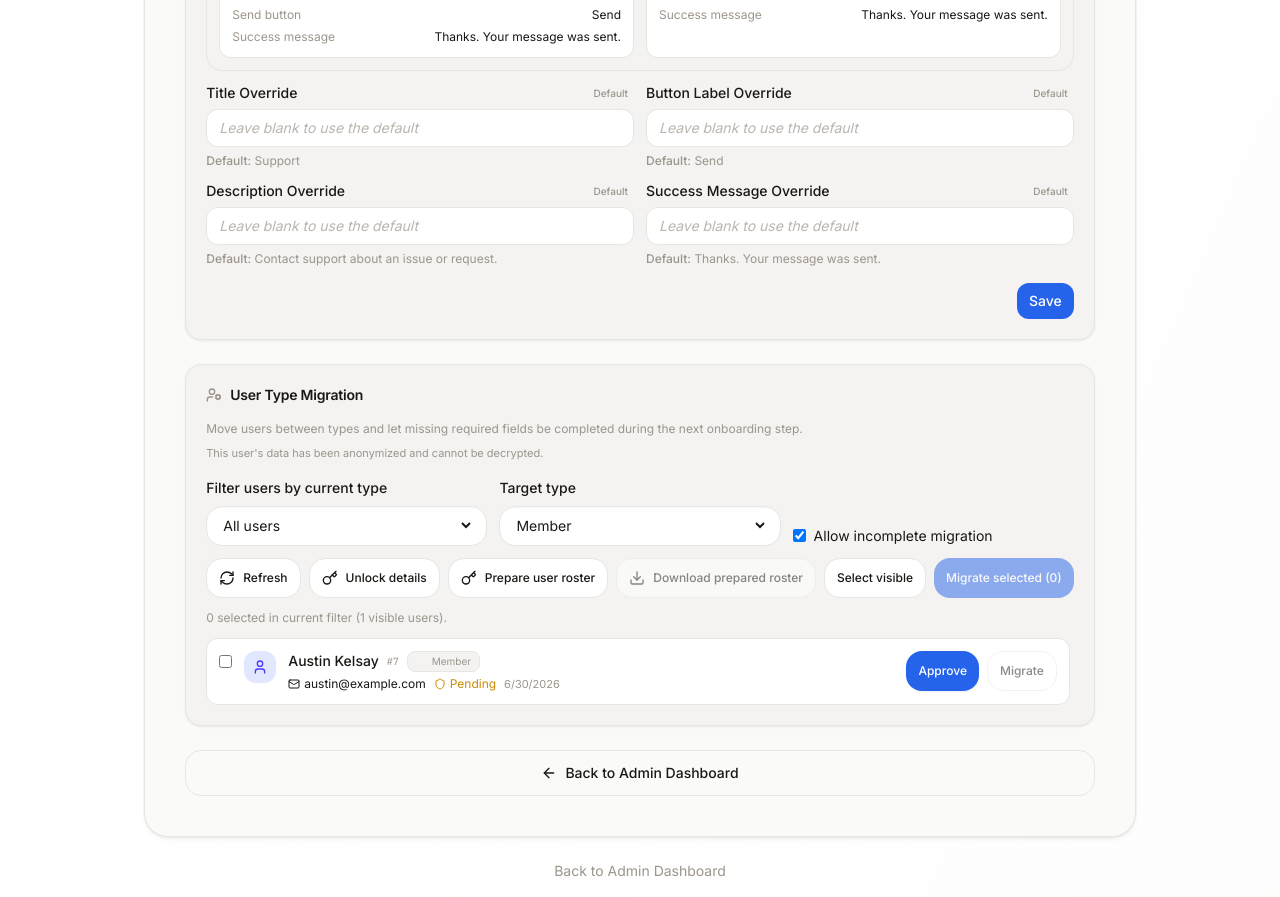
Test case: AdminUserConfig › downloads a User Roster Export and records copied export metadata
This screenshot has width=1280, height=897.
(page scrolled)
Expected: the button "Download prepared roster" is disabled, [616, 558, 816, 598]
Click the button "Prepare user roster": (528, 578) [448, 558, 608, 598]
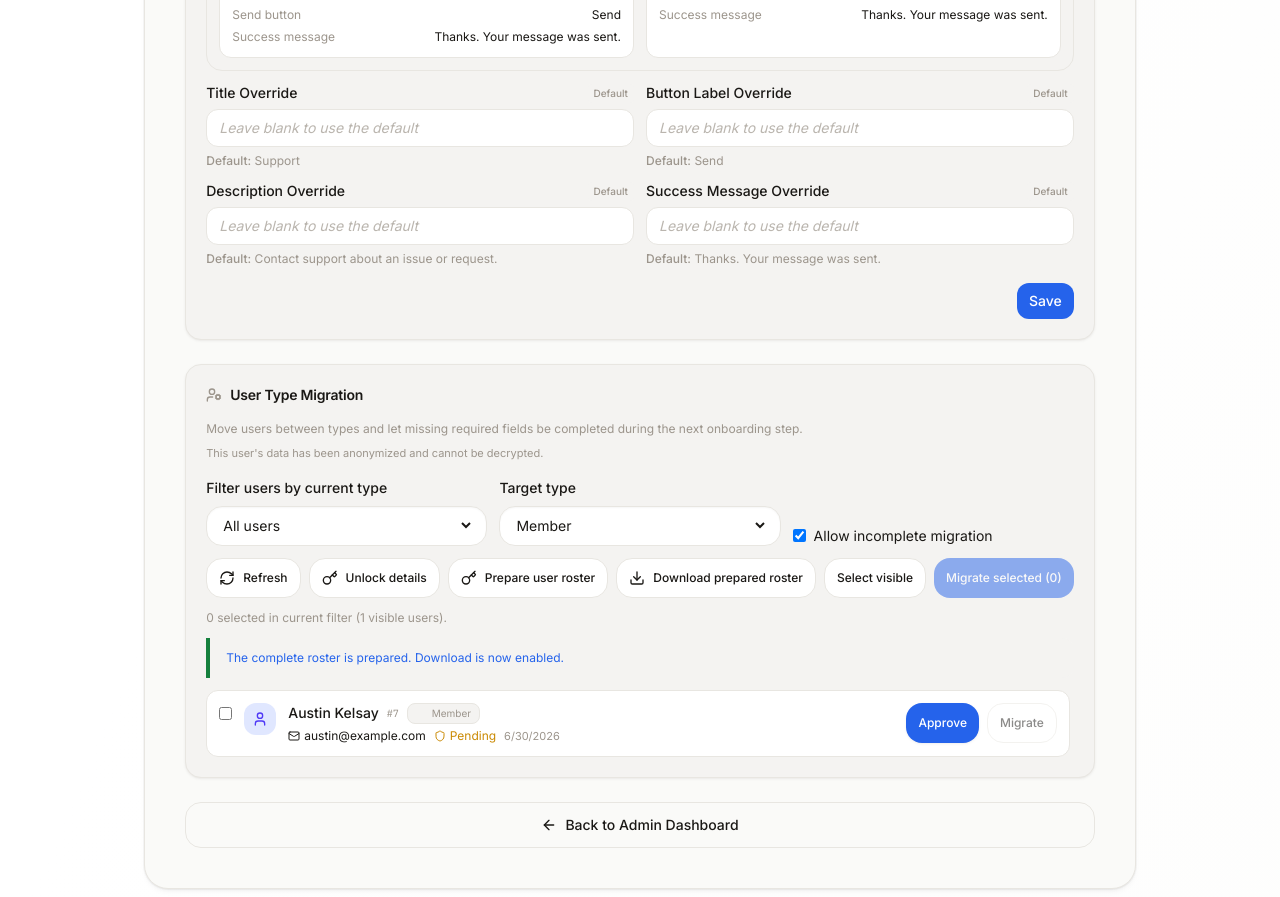
Expected: the button "Download prepared roster" is enabled, [616, 558, 816, 598]
Expected: the element named "User roster export ready" reads "The complete roster is prepared. Download is now enabled.", [226, 650, 564, 665]
Click the button "Refresh": (253, 578) [206, 558, 301, 598]
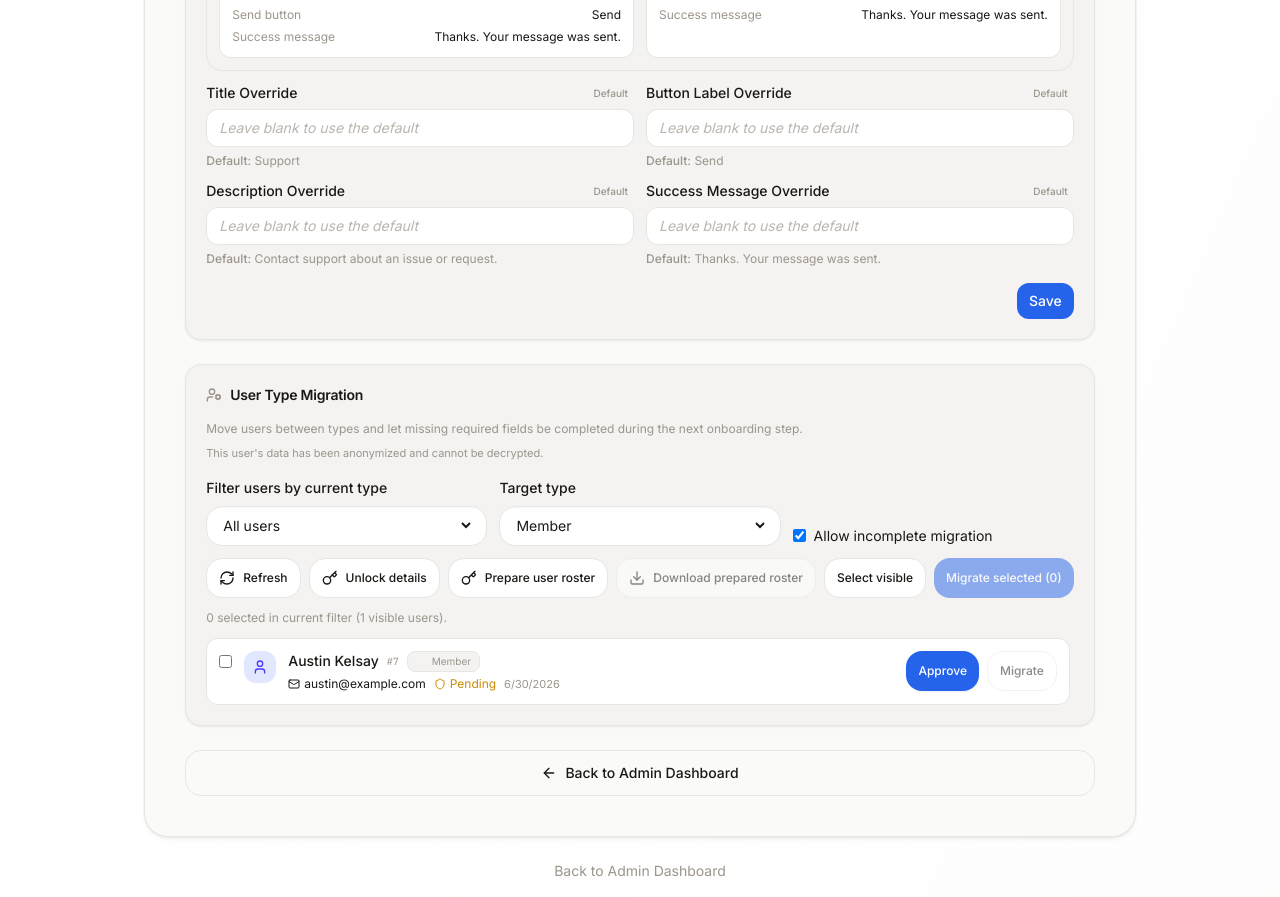
Expected: the button "Download prepared roster" is disabled, [616, 558, 816, 598]
Click the button "Prepare user roster": (528, 578) [448, 558, 608, 598]
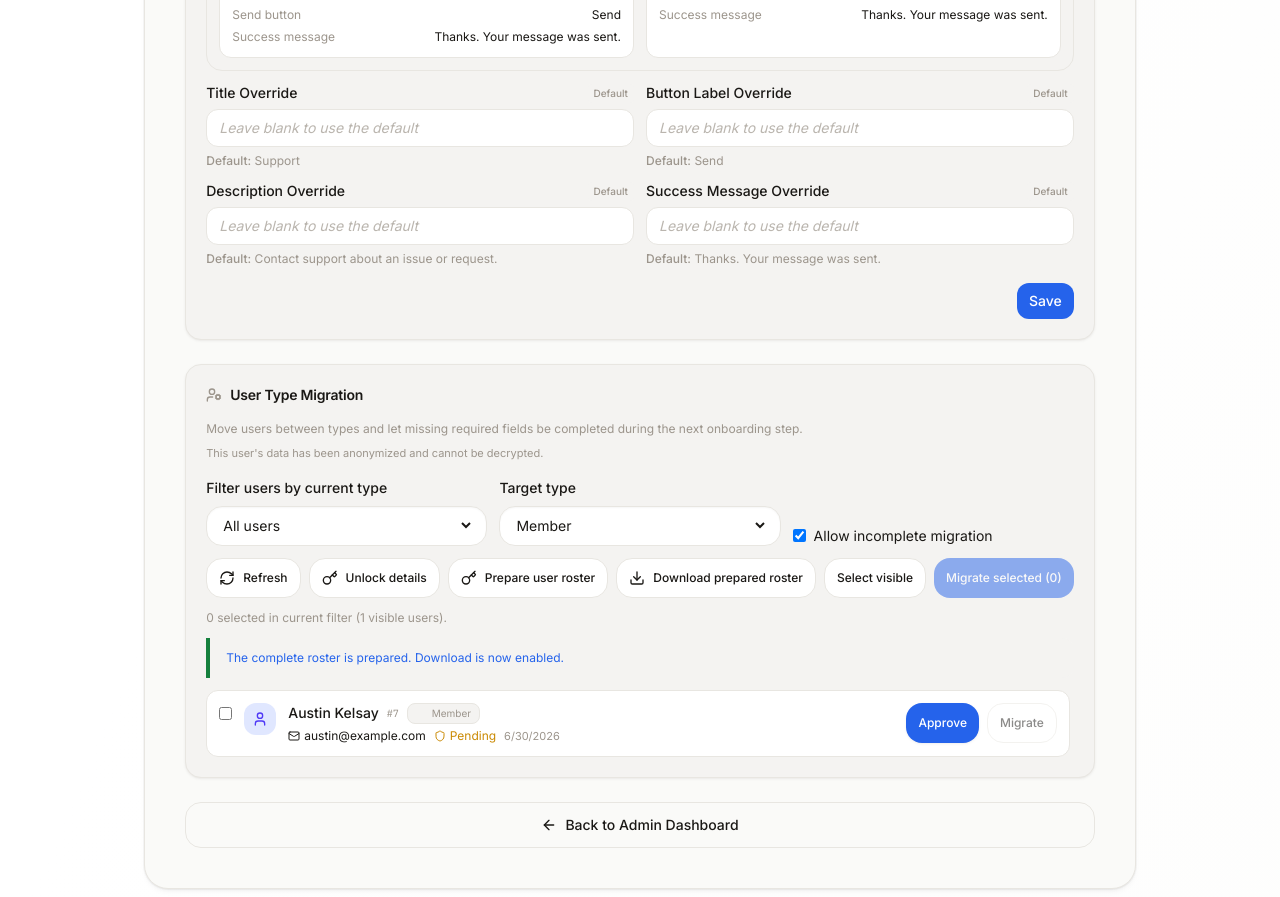
Expected: the button "Download prepared roster" is enabled
Click the button "Download prepared roster": (716, 578) [616, 558, 816, 598]
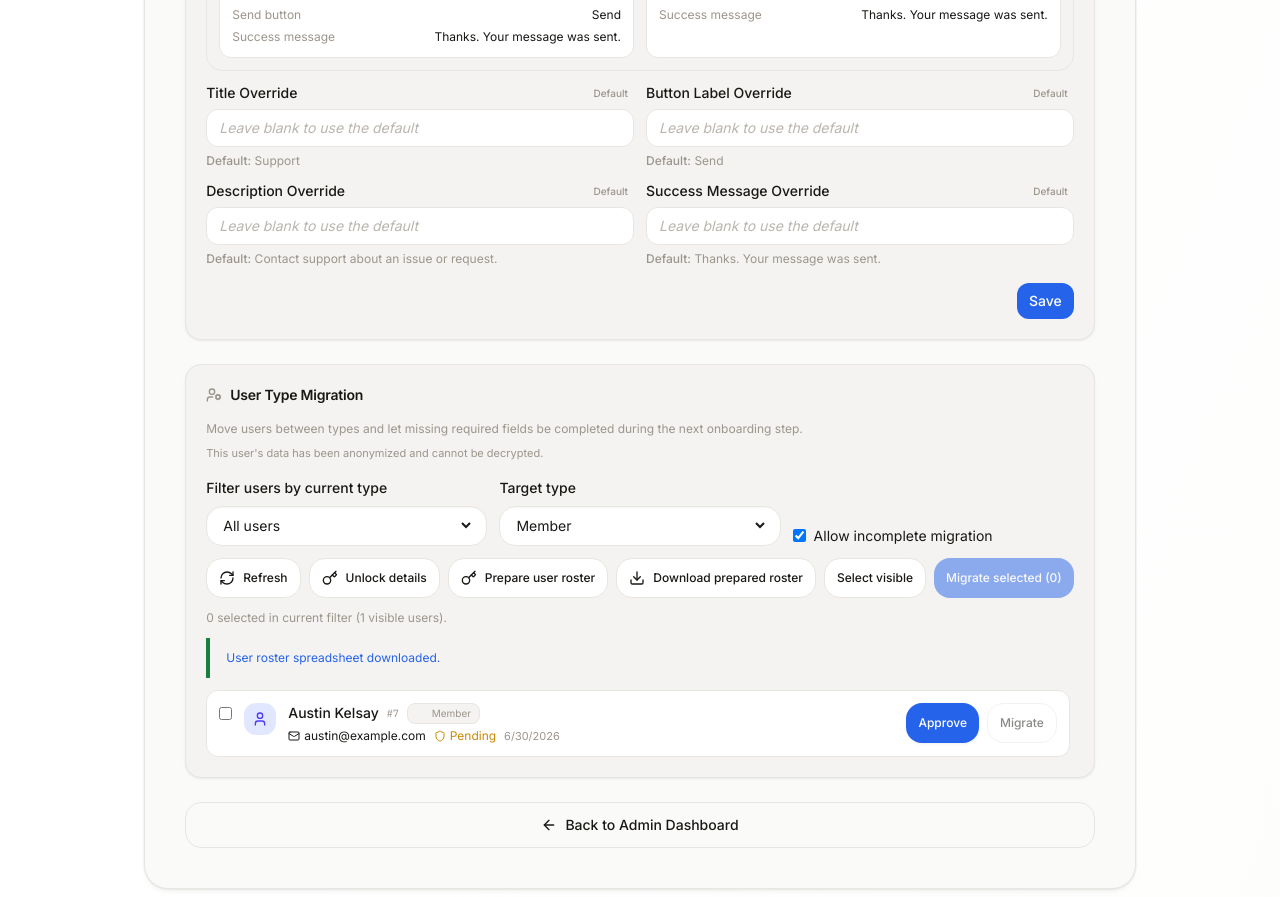
Expected: the element named "User roster export ready" reads "User roster spreadsheet downloaded.", [226, 650, 440, 665]
